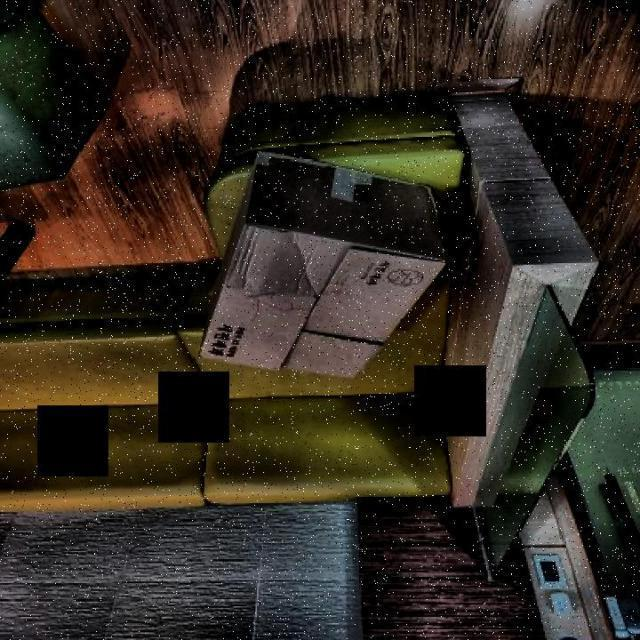box: (192, 146, 445, 390)
